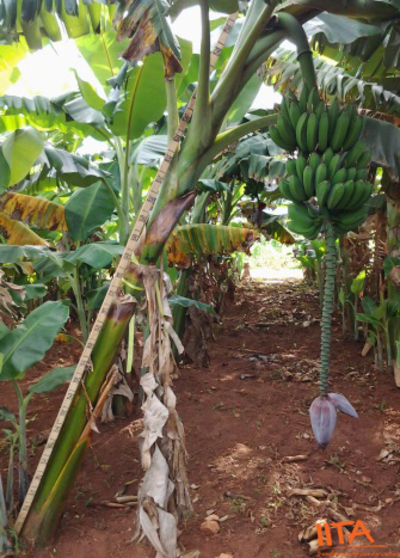bananaHand: (269, 85, 374, 245)
